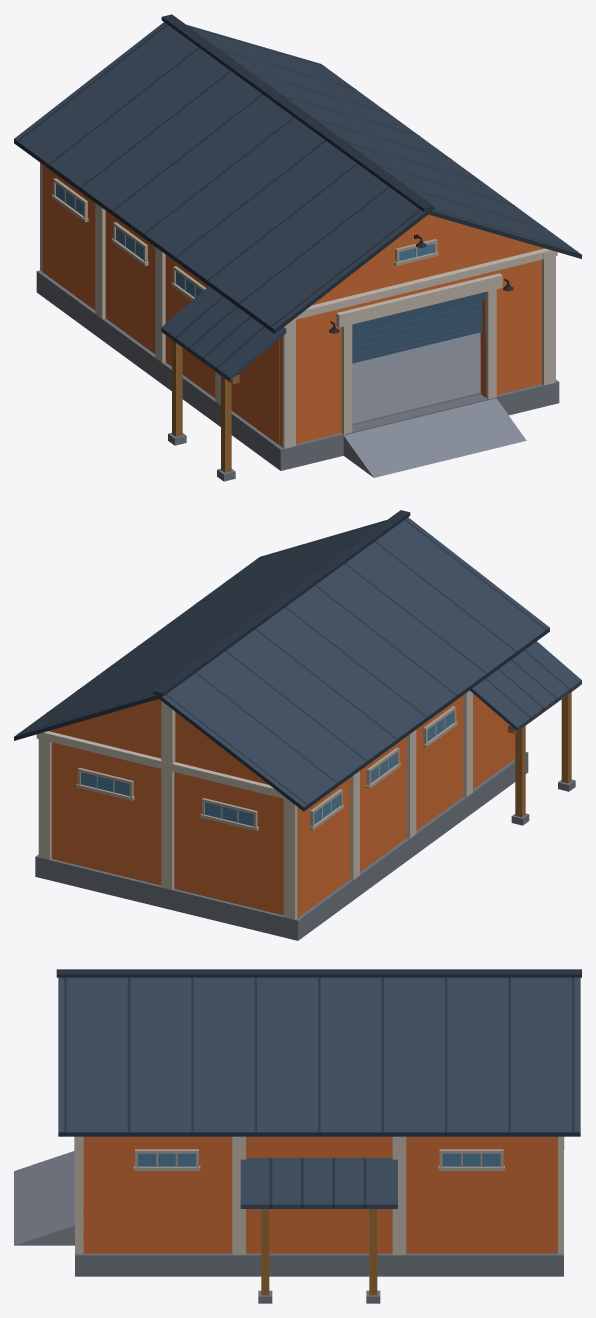
The model's file is warehouse.fbx.
3 renders of one model, top to bottom at view 1: azimuth 30°, elevation 25°; view 2: azimuth 150°, elevation 25°; view 3: azimuth 270°, elevation 25°, orthographic. The views are drawn at different scales.
Visible parts, largest first — view 1: Interior_Floor; view 2: Interior_Floor; view 3: Interior_Floor.
Part boxes in pixels (left/top/right/bottom): Interior_Floor: left=14, top=14, right=581, bottom=481; Interior_Floor: left=14, top=510, right=581, bottom=940; Interior_Floor: left=14, top=969, right=581, bottom=1303.
Size of the model in its own units: 925 by 532 by 1157.
